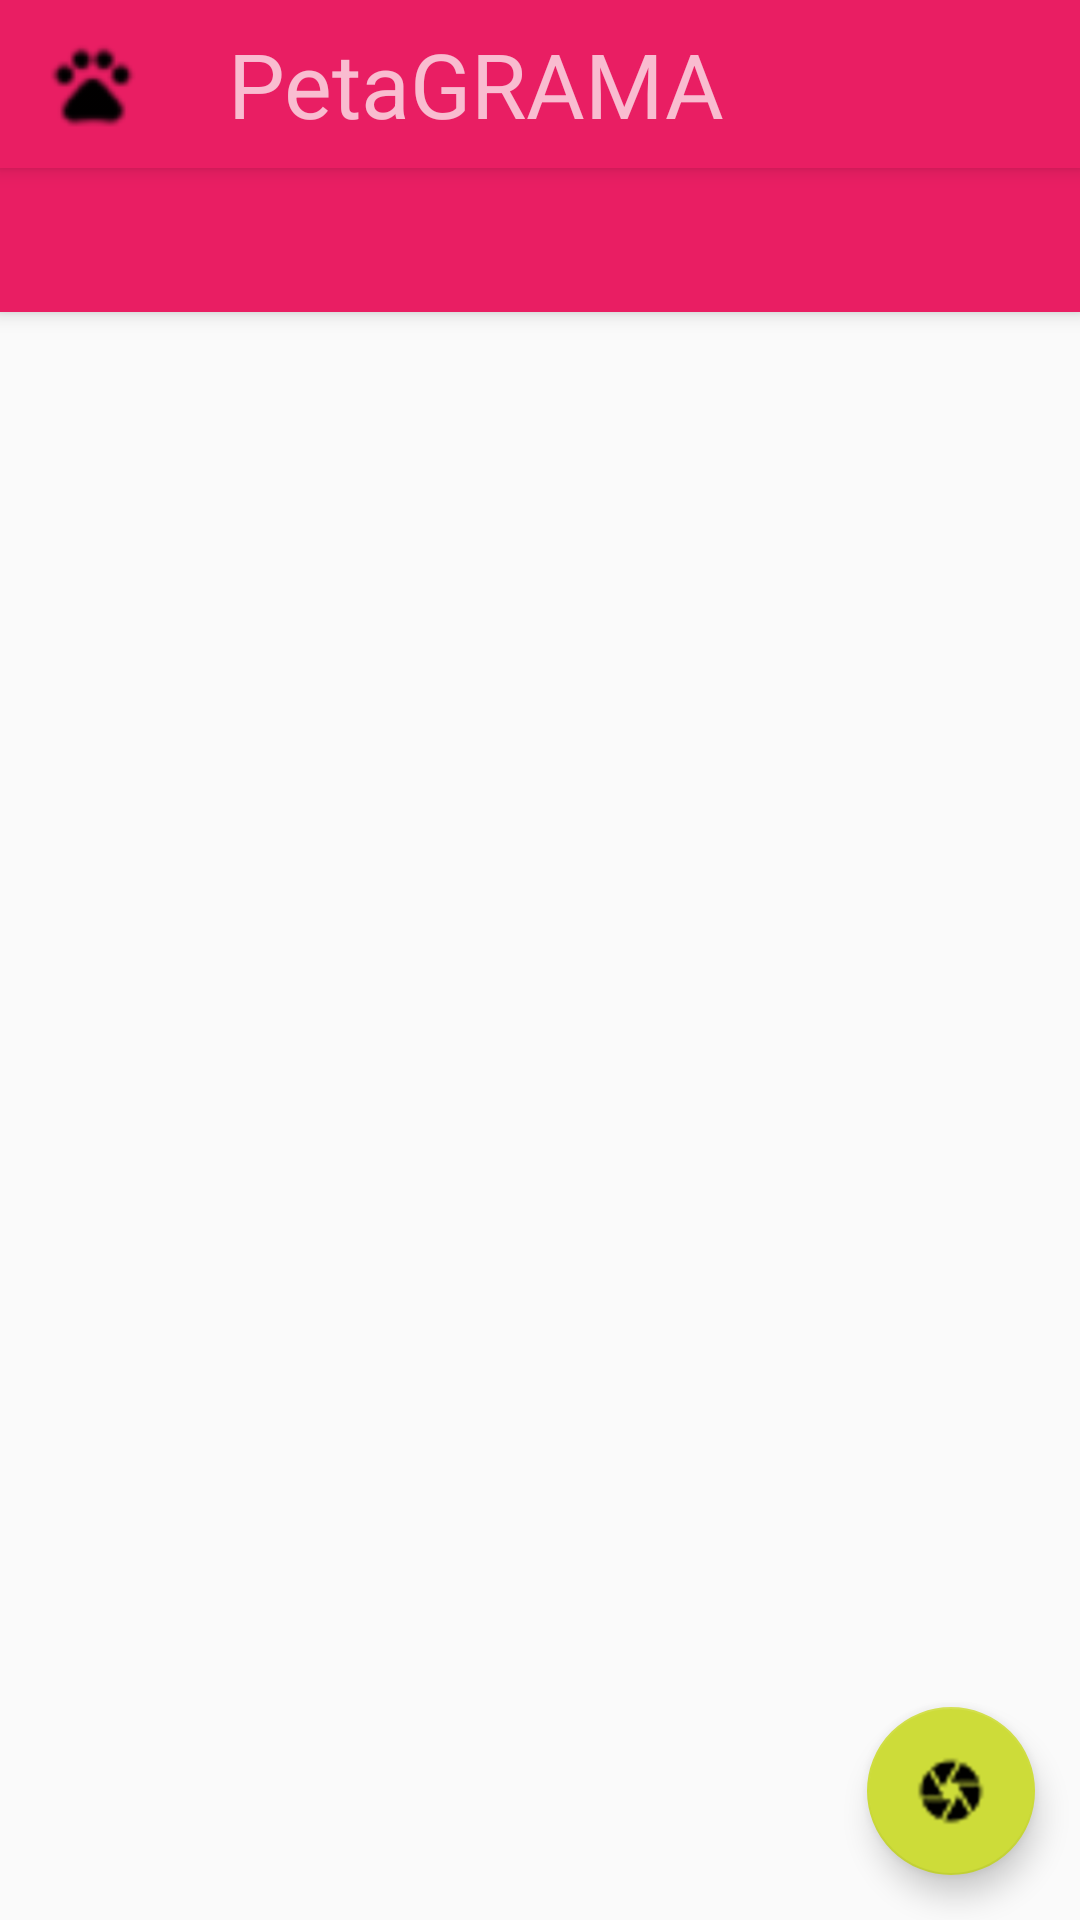

Icons on this 1080px×1920px Android screen, each with the point to tap as (x=x, y=y):
camera: (x=951, y=1791)
pets: (x=92, y=87)
